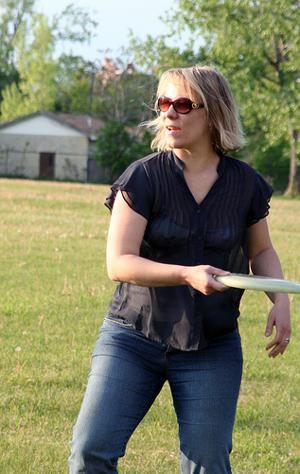person: (68, 66, 291, 474)
